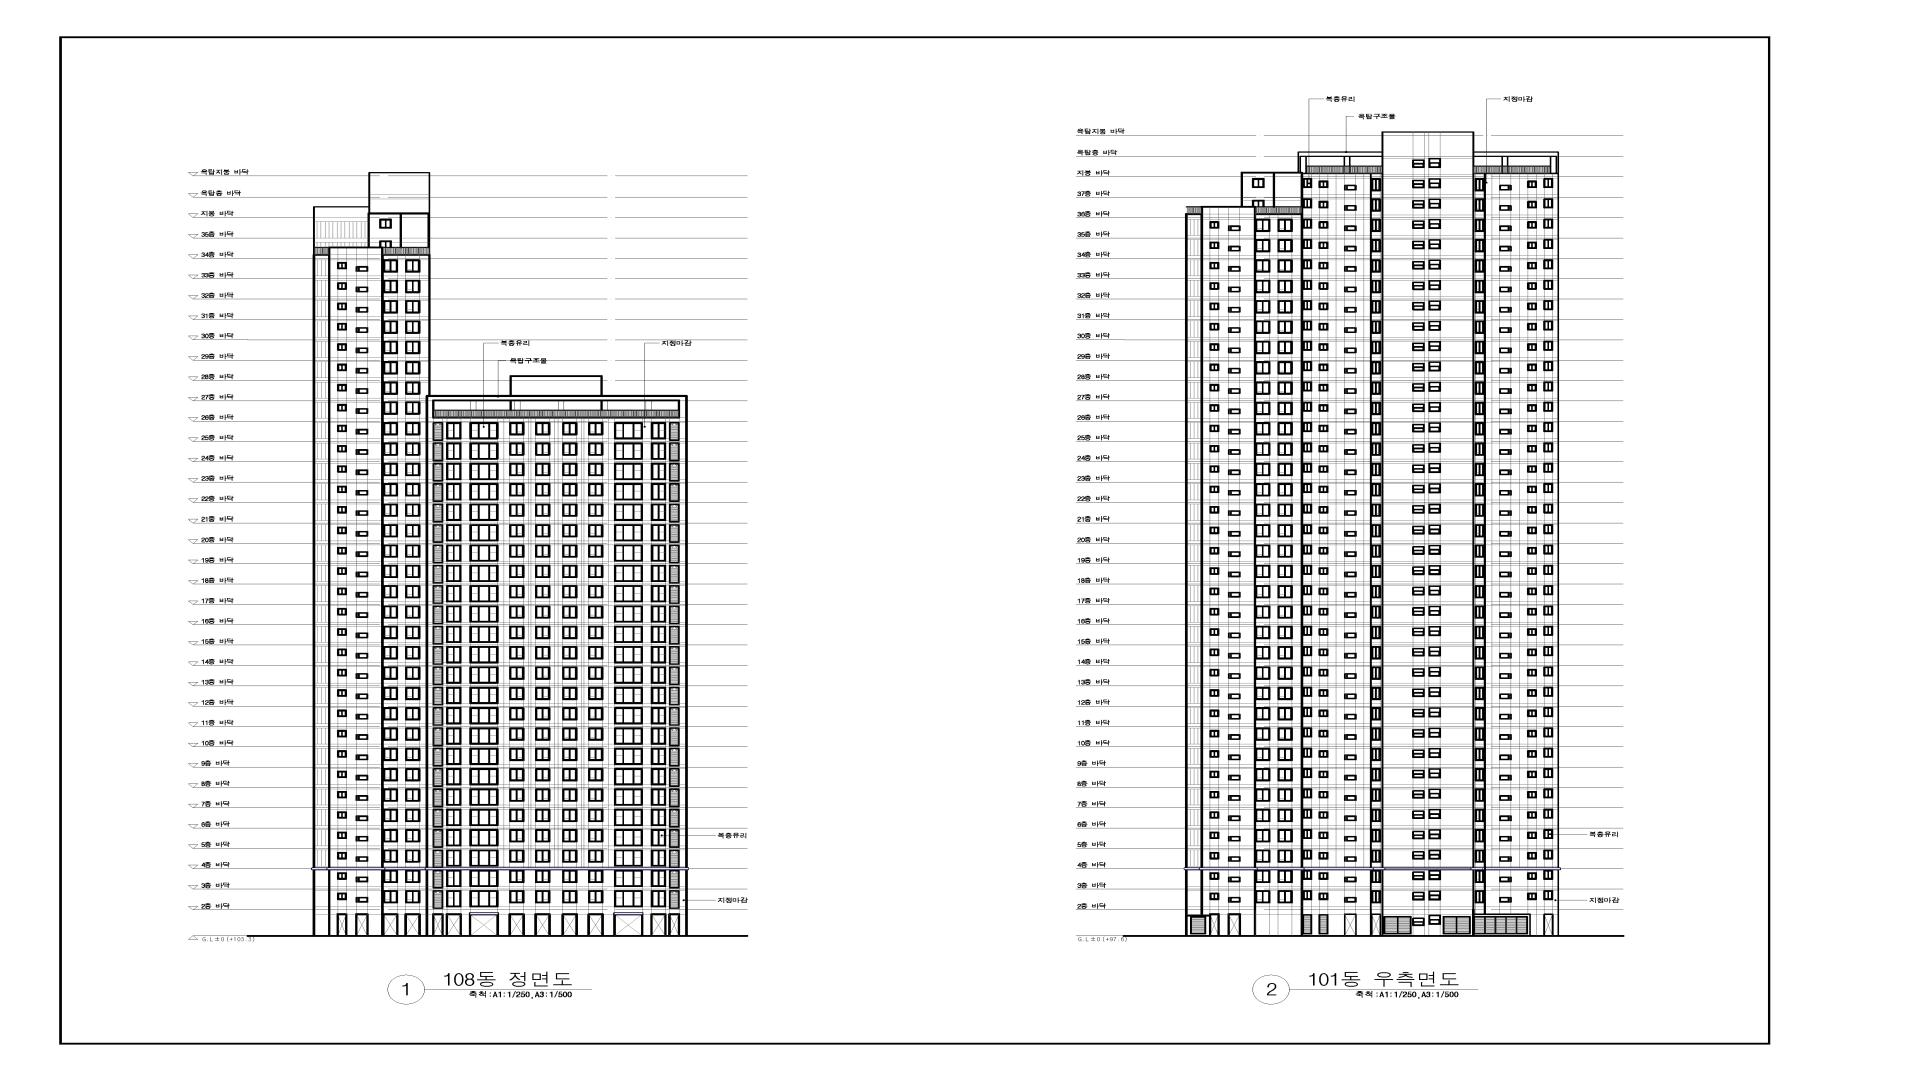door: (469, 913, 500, 935), (613, 913, 644, 935), (534, 913, 551, 935), (587, 913, 604, 935), (650, 913, 667, 935), (405, 913, 421, 935), (446, 913, 462, 935), (509, 913, 525, 935), (562, 913, 578, 935), (355, 913, 369, 935), (384, 913, 398, 935), (1228, 914, 1241, 935), (1344, 914, 1357, 935), (433, 913, 444, 935), (669, 913, 680, 935), (336, 913, 347, 935), (1209, 914, 1220, 935), (1370, 914, 1381, 935), (1543, 914, 1553, 935)
wall: (1185, 132, 1559, 938), (313, 171, 688, 936)
window: (1472, 916, 1528, 935), (613, 483, 644, 501), (613, 625, 644, 644), (613, 767, 644, 786), (615, 442, 644, 460), (615, 524, 644, 542), (615, 666, 644, 684), (615, 808, 644, 827), (469, 442, 498, 460), (469, 483, 498, 501), (469, 524, 498, 542), (469, 625, 498, 644), (469, 666, 498, 684), (469, 727, 498, 745), (469, 767, 498, 786), (1383, 916, 1412, 935), (613, 463, 644, 480), (613, 585, 644, 603), (613, 605, 644, 622), (1443, 916, 1470, 935), (615, 422, 644, 439), (615, 504, 644, 521), (615, 545, 644, 562), (615, 564, 644, 582), (615, 646, 644, 663), (615, 687, 644, 704), (615, 707, 644, 724), (615, 728, 644, 745), (615, 748, 644, 765), (615, 789, 644, 806), (615, 829, 644, 847), (615, 849, 644, 866), (615, 870, 644, 887), (615, 890, 644, 907), (469, 422, 498, 439), (469, 463, 498, 480), (469, 504, 498, 521), (469, 545, 498, 562), (469, 564, 498, 582), (469, 585, 498, 603), (469, 605, 498, 622), (469, 646, 498, 663), (469, 687, 498, 704), (469, 707, 498, 724), (469, 748, 498, 765), (469, 789, 498, 806), (469, 808, 498, 825), (469, 829, 498, 847), (469, 849, 498, 866), (469, 870, 498, 887), (469, 890, 498, 907), (1189, 916, 1207, 935), (446, 442, 462, 460), (446, 483, 462, 501), (446, 524, 462, 542), (446, 625, 462, 644), (446, 666, 462, 684), (446, 767, 462, 786), (446, 808, 462, 827), (446, 828, 462, 847), (650, 442, 666, 460), (650, 524, 666, 542), (650, 767, 666, 786), (446, 422, 462, 439), (446, 463, 462, 480), (446, 504, 462, 521), (446, 545, 462, 562), (446, 564, 462, 582), (446, 585, 462, 603), (446, 605, 462, 622), (446, 646, 462, 663), (446, 687, 462, 704), (446, 707, 462, 724), (446, 728, 462, 745), (446, 748, 462, 765), (446, 789, 462, 806), (446, 849, 462, 866), (446, 870, 462, 887), (446, 890, 462, 907), (650, 422, 666, 439), (650, 463, 666, 480), (650, 545, 666, 562), (650, 564, 666, 582), (650, 585, 666, 603), (650, 605, 666, 622), (650, 646, 666, 663), (650, 687, 666, 704), (650, 707, 666, 724), (650, 728, 666, 745), (650, 748, 666, 765), (650, 789, 666, 806), (650, 808, 666, 825), (650, 829, 666, 847), (650, 849, 666, 866), (650, 870, 666, 887), (650, 890, 666, 907), (651, 483, 666, 501), (651, 625, 666, 644), (651, 666, 666, 684), (1300, 914, 1312, 935), (651, 504, 666, 521), (1254, 340, 1271, 355), (1254, 442, 1271, 456), (1254, 564, 1271, 579), (1254, 666, 1271, 680), (1254, 707, 1271, 721), (1254, 767, 1271, 782), (1254, 808, 1271, 823), (669, 422, 680, 442), (669, 625, 680, 645), (669, 828, 680, 848), (405, 340, 421, 355), (405, 381, 421, 396), (405, 442, 421, 456), (405, 483, 421, 497), (405, 524, 421, 538), (405, 666, 421, 680), (405, 767, 421, 782), (405, 869, 421, 884), (509, 442, 525, 456), (509, 524, 525, 538), (509, 625, 525, 640), (509, 666, 525, 680), (509, 767, 525, 782), (535, 767, 551, 782), (562, 442, 578, 456), (562, 524, 578, 538), (562, 666, 578, 680), (562, 727, 578, 741), (562, 767, 578, 782), (588, 767, 604, 782), (588, 666, 604, 680), (588, 625, 604, 640), (588, 524, 604, 538), (588, 442, 604, 456), (1278, 666, 1294, 680), (1278, 767, 1294, 782), (1278, 808, 1294, 823), (1278, 869, 1294, 884), (1278, 340, 1294, 355), (1278, 442, 1294, 456), (1254, 239, 1271, 252), (1254, 260, 1271, 273), (1254, 280, 1271, 293), (1254, 301, 1271, 314), (1254, 320, 1271, 334), (1254, 361, 1271, 375), (1254, 381, 1271, 394), (1254, 402, 1271, 415), (1254, 422, 1271, 435), (1254, 463, 1271, 476), (1254, 483, 1271, 496), (1254, 504, 1271, 517), (1254, 525, 1271, 538), (1254, 545, 1271, 558), (1254, 585, 1271, 599), (1254, 605, 1271, 618), (1254, 626, 1271, 640), (1254, 646, 1271, 659), (1254, 687, 1271, 700), (1254, 829, 1271, 843), (1254, 849, 1271, 862), (1254, 870, 1271, 884), (1254, 219, 1271, 232), (1319, 914, 1329, 935), (669, 504, 680, 522), (669, 585, 680, 604), (669, 687, 680, 705), (669, 890, 680, 909), (384, 280, 398, 294), (384, 340, 398, 355), (384, 381, 398, 396), (384, 401, 398, 415), (384, 442, 398, 456), (384, 483, 398, 497), (384, 524, 398, 538), (384, 625, 398, 640), (384, 666, 398, 680), (384, 767, 398, 782), (384, 869, 398, 884), (535, 666, 550, 680), (535, 625, 550, 640), (535, 524, 550, 538), (535, 442, 550, 456), (405, 260, 421, 273), (405, 280, 421, 293), (405, 301, 421, 314), (405, 320, 421, 334), (405, 361, 421, 375), (405, 402, 421, 415), (405, 422, 421, 435), (405, 463, 421, 476), (405, 504, 421, 517), (405, 545, 421, 558), (405, 564, 421, 578), (405, 585, 421, 599), (405, 605, 421, 618), (405, 626, 421, 640), (405, 646, 421, 659), (405, 687, 421, 700), (405, 707, 421, 720), (405, 728, 421, 741), (405, 748, 421, 761), (405, 789, 421, 802), (405, 808, 421, 822), (405, 829, 421, 843), (405, 849, 421, 862), (405, 890, 421, 903), (433, 422, 443, 442), (433, 442, 443, 462), (433, 483, 443, 502), (433, 524, 443, 543), (433, 564, 443, 584), (433, 625, 443, 645), (433, 666, 443, 686), (433, 767, 443, 787), (433, 808, 443, 828), (433, 828, 443, 848), (509, 422, 525, 435), (509, 463, 525, 476), (509, 483, 525, 496), (509, 504, 525, 517), (509, 545, 525, 558), (509, 564, 525, 578), (509, 585, 525, 599), (509, 605, 525, 618), (509, 646, 525, 659), (509, 687, 525, 700), (509, 707, 525, 720), (509, 728, 525, 741), (509, 748, 525, 761), (509, 789, 525, 802), (509, 808, 525, 822), (509, 829, 525, 843), (509, 849, 525, 862), (509, 870, 525, 884), (509, 890, 525, 903), (535, 890, 551, 903), (535, 870, 551, 884), (535, 849, 551, 862), (535, 707, 551, 720), (535, 687, 551, 700), (535, 585, 551, 599), (535, 483, 551, 496), (562, 422, 578, 435), (562, 463, 578, 476), (562, 483, 578, 496), (562, 504, 578, 517), (562, 545, 578, 558), (562, 564, 578, 578), (562, 585, 578, 599), (562, 605, 578, 618), (562, 626, 578, 640), (562, 646, 578, 659), (562, 687, 578, 700), (562, 707, 578, 720), (562, 748, 578, 761), (562, 789, 578, 802), (562, 808, 578, 822), (562, 829, 578, 843), (562, 849, 578, 862), (562, 870, 578, 884), (562, 890, 578, 903), (588, 890, 604, 903), (588, 870, 604, 884), (588, 849, 604, 862), (588, 829, 604, 843), (588, 808, 604, 822), (588, 789, 604, 802), (588, 748, 604, 761), (588, 728, 604, 741), (588, 707, 604, 720), (588, 687, 604, 700), (588, 646, 604, 659), (588, 605, 604, 618), (588, 585, 604, 599), (588, 564, 604, 578), (588, 545, 604, 558), (588, 504, 604, 517), (588, 483, 604, 496), (588, 463, 604, 476), (588, 422, 604, 435), (669, 442, 679, 462), (669, 483, 679, 502), (669, 524, 679, 543), (669, 564, 679, 584), (669, 666, 679, 686), (669, 727, 679, 746), (669, 767, 679, 787), (669, 808, 679, 828), (1278, 564, 1294, 578), (1278, 585, 1294, 599), (1278, 605, 1294, 618), (1278, 626, 1294, 640), (1278, 646, 1294, 659), (1278, 687, 1294, 700), (1278, 707, 1294, 720), (1278, 728, 1294, 741), (1278, 748, 1294, 761), (1278, 789, 1294, 802), (1278, 829, 1294, 843), (1278, 849, 1294, 862), (1254, 728, 1270, 741), (1254, 748, 1270, 761), (1254, 789, 1270, 802), (1254, 890, 1270, 903), (1278, 219, 1294, 232), (1278, 239, 1294, 252), (1278, 280, 1294, 293), (1278, 301, 1294, 314), (1278, 320, 1294, 334), (1278, 361, 1294, 375), (1278, 381, 1294, 394), (1278, 402, 1294, 415), (1278, 463, 1294, 476), (1278, 483, 1294, 496), (1278, 504, 1294, 517), (1278, 525, 1294, 538), (1278, 545, 1294, 558), (433, 463, 443, 481), (433, 504, 443, 522), (433, 545, 443, 563), (433, 585, 443, 604), (433, 605, 443, 624), (433, 646, 443, 665), (433, 687, 443, 705), (433, 707, 443, 725), (433, 728, 443, 746), (433, 748, 443, 766), (433, 789, 443, 807), (433, 849, 443, 868), (433, 870, 443, 889), (433, 890, 443, 909), (669, 463, 679, 481), (669, 545, 679, 563), (669, 605, 679, 624), (669, 646, 679, 665), (669, 707, 679, 725), (669, 748, 679, 766), (669, 789, 679, 807), (669, 849, 679, 868), (669, 870, 679, 889), (384, 301, 398, 314), (384, 320, 398, 334), (384, 361, 398, 375), (384, 422, 398, 435), (384, 463, 398, 476), (384, 504, 398, 517), (384, 545, 398, 558), (384, 564, 398, 578), (384, 585, 398, 599), (384, 605, 398, 618), (384, 646, 398, 659), (384, 687, 398, 700), (384, 707, 398, 720), (384, 728, 398, 741), (384, 260, 398, 273), (384, 748, 398, 761), (384, 789, 398, 802), (384, 808, 398, 822), (384, 829, 398, 843), (384, 849, 398, 862), (384, 890, 398, 903), (535, 829, 550, 843), (535, 808, 550, 822), (535, 789, 550, 802), (535, 748, 550, 761), (535, 728, 550, 741), (535, 646, 550, 659), (535, 605, 550, 618), (535, 564, 550, 578), (535, 545, 550, 558), (535, 504, 550, 517), (535, 463, 550, 476), (535, 422, 550, 435), (1278, 890, 1292, 903), (1278, 260, 1292, 273), (1278, 422, 1292, 435), (1474, 198, 1486, 212), (1474, 280, 1486, 294), (1474, 340, 1486, 355), (1474, 442, 1486, 456), (1474, 767, 1486, 782), (1370, 340, 1382, 355), (1370, 707, 1382, 720), (1474, 178, 1486, 191), (1474, 219, 1486, 232), (1474, 239, 1486, 252), (1474, 260, 1486, 273), (1474, 301, 1486, 314), (1474, 320, 1486, 334), (1474, 361, 1486, 375), (1474, 381, 1486, 394), (1474, 402, 1486, 415), (1474, 422, 1486, 435), (1474, 463, 1486, 476), (1474, 483, 1486, 496), (1474, 504, 1486, 517), (1474, 525, 1486, 538), (1474, 545, 1486, 558), (1474, 564, 1486, 578), (1474, 585, 1486, 599), (1474, 605, 1486, 618), (1370, 422, 1382, 435), (1370, 605, 1382, 618), (1370, 646, 1382, 659), (1474, 626, 1486, 640), (1474, 646, 1486, 659), (1474, 667, 1486, 680), (1474, 687, 1486, 700), (1474, 707, 1486, 720), (1474, 728, 1486, 741), (1474, 748, 1486, 761), (1474, 789, 1486, 802), (1474, 808, 1486, 822), (1474, 829, 1486, 843), (1474, 849, 1486, 862), (1474, 870, 1486, 884), (1370, 219, 1382, 232), (1370, 239, 1382, 252), (1370, 381, 1382, 394), (1370, 767, 1381, 782), (1370, 666, 1381, 680), (1370, 198, 1381, 212), (1370, 687, 1381, 700), (1370, 728, 1381, 741), (1370, 748, 1381, 761), (1370, 789, 1381, 802), (1370, 808, 1381, 822), (1370, 829, 1381, 843), (1370, 849, 1381, 862), (1370, 870, 1381, 884), (1370, 890, 1381, 903), (1428, 504, 1441, 514), (1428, 545, 1441, 555), (1428, 585, 1441, 596), (1428, 626, 1441, 637), (1428, 646, 1441, 657), (1428, 687, 1441, 698), (1428, 707, 1441, 717), (1428, 728, 1441, 738), (1428, 748, 1441, 758), (1428, 789, 1441, 799), (1428, 808, 1441, 819), (1428, 829, 1441, 840), (1428, 849, 1441, 860), (1428, 870, 1441, 881), (1428, 890, 1441, 901), (1251, 178, 1265, 189), (1370, 443, 1381, 456), (1370, 463, 1381, 476), (1370, 483, 1381, 496), (1370, 504, 1381, 517), (1370, 525, 1381, 538), (1370, 545, 1381, 558), (1370, 564, 1381, 578), (1370, 585, 1381, 599), (1370, 626, 1381, 640), (1428, 178, 1441, 189), (1428, 219, 1441, 229), (1428, 239, 1441, 249), (1428, 260, 1441, 270), (1428, 280, 1441, 290), (1428, 301, 1441, 311), (1428, 320, 1441, 331), (1428, 361, 1441, 372), (1428, 402, 1441, 413), (1428, 422, 1441, 433), (1428, 463, 1441, 473), (1476, 890, 1486, 903), (1370, 178, 1381, 191), (1370, 260, 1381, 273), (1370, 280, 1381, 293), (1370, 301, 1381, 314), (1370, 320, 1381, 334), (1370, 361, 1381, 375), (1370, 402, 1381, 415), (1300, 545, 1312, 555), (1300, 564, 1312, 575), (1300, 605, 1312, 616), (1300, 646, 1312, 657), (1300, 666, 1312, 676), (1300, 707, 1312, 717), (1300, 748, 1312, 758), (1300, 789, 1312, 799), (1300, 808, 1312, 819), (1300, 849, 1312, 860), (1300, 890, 1312, 901), (1300, 178, 1312, 189), (1300, 198, 1312, 208), (1300, 239, 1312, 249), (1300, 280, 1312, 290), (1300, 320, 1312, 331), (1300, 340, 1312, 351), (1300, 381, 1312, 392), (1300, 422, 1312, 433), (1300, 442, 1312, 452), (1300, 463, 1312, 473), (1300, 483, 1312, 493), (1300, 504, 1312, 514), (378, 219, 392, 228), (1428, 525, 1441, 534), (1428, 566, 1441, 575), (1428, 607, 1441, 616), (1428, 667, 1441, 676), (1428, 769, 1441, 778), (1428, 915, 1441, 924), (1412, 587, 1425, 596), (1412, 607, 1425, 616), (1412, 628, 1425, 637), (1412, 647, 1425, 657), (1412, 688, 1425, 698), (1412, 749, 1425, 758), (1412, 790, 1425, 799), (1412, 891, 1425, 901), (1428, 158, 1441, 167), (1428, 199, 1441, 208), (1428, 342, 1441, 351), (1428, 382, 1441, 392), (1428, 443, 1441, 452), (1428, 484, 1441, 493), (1412, 179, 1425, 189), (1412, 220, 1425, 229), (1412, 261, 1425, 270), (1412, 302, 1425, 311), (1412, 322, 1425, 331), (1412, 363, 1425, 372), (1412, 423, 1425, 433), (1412, 464, 1425, 473), (1412, 505, 1425, 514), (1412, 546, 1425, 555), (1543, 442, 1553, 452), (1543, 463, 1553, 473), (1543, 483, 1553, 493), (1543, 504, 1553, 514), (1543, 524, 1553, 534), (1543, 545, 1553, 555), (1543, 564, 1553, 575), (1543, 605, 1553, 616), (1543, 646, 1553, 657), (1543, 666, 1553, 676), (1543, 687, 1553, 698), (1543, 707, 1553, 717), (1543, 748, 1553, 758), (1543, 767, 1553, 778), (1543, 789, 1553, 799), (1543, 808, 1553, 819), (1543, 849, 1553, 860), (1543, 890, 1553, 901), (1543, 178, 1553, 189), (1543, 198, 1553, 208), (1543, 239, 1553, 249), (1543, 280, 1553, 290), (1543, 320, 1553, 331), (1543, 340, 1553, 351), (1543, 361, 1553, 372), (1543, 381, 1553, 392), (1543, 422, 1553, 433), (1300, 585, 1312, 595), (1300, 626, 1312, 636), (1300, 687, 1312, 696), (1300, 728, 1312, 737), (1300, 769, 1312, 778), (1300, 829, 1312, 839), (1300, 870, 1312, 880), (1300, 219, 1312, 228), (1300, 260, 1312, 269), (1300, 301, 1312, 310), (1300, 361, 1312, 371), (1300, 402, 1312, 411), (1300, 525, 1312, 534), (1412, 918, 1425, 926), (1251, 199, 1265, 207), (1412, 567, 1425, 575), (1412, 669, 1425, 676), (1412, 709, 1425, 717), (1412, 729, 1425, 737), (1412, 770, 1425, 778), (1412, 811, 1425, 819), (1412, 831, 1425, 839), (1412, 852, 1425, 860), (1412, 872, 1425, 880), (1412, 160, 1425, 167), (1412, 200, 1425, 208), (1412, 241, 1425, 249), (1412, 282, 1425, 290), (1412, 343, 1425, 351), (1412, 384, 1425, 392), (1412, 404, 1425, 411), (1412, 444, 1425, 452), (1412, 485, 1425, 493), (1412, 526, 1425, 534), (1543, 585, 1553, 595), (1543, 626, 1553, 636), (1543, 728, 1553, 737), (1543, 829, 1553, 839), (1543, 870, 1553, 880), (1543, 219, 1553, 228), (1543, 260, 1553, 269), (1543, 301, 1553, 310), (1543, 402, 1553, 411), (355, 774, 368, 781), (1344, 185, 1357, 191), (1344, 204, 1357, 211), (1344, 245, 1357, 252), (1344, 286, 1357, 293), (1344, 327, 1357, 334), (1344, 388, 1357, 394), (1344, 429, 1357, 435), (1228, 245, 1241, 252), (1228, 286, 1241, 293), (1228, 327, 1241, 334), (1228, 388, 1241, 394), (1228, 429, 1241, 435), (1228, 551, 1241, 558), (1228, 571, 1241, 578), (1344, 612, 1357, 618), (1344, 673, 1357, 679), (1344, 713, 1357, 720), (1344, 815, 1357, 822), (1344, 856, 1357, 862), (1344, 897, 1357, 903), (1499, 185, 1513, 191), (1499, 245, 1513, 252), (1499, 286, 1513, 293), (1499, 327, 1513, 334), (1499, 388, 1513, 394), (1499, 429, 1513, 435), (1228, 612, 1241, 618), (1228, 653, 1241, 659), (1228, 673, 1241, 679), (1228, 713, 1241, 720), (1228, 754, 1241, 761), (1228, 815, 1241, 822), (1228, 856, 1241, 862), (1499, 551, 1513, 558), (1499, 713, 1513, 720), (1499, 754, 1513, 761), (1499, 774, 1513, 781), (1499, 815, 1513, 822), (1499, 856, 1513, 862), (1499, 897, 1513, 903), (336, 282, 347, 290), (336, 343, 347, 351), (336, 404, 347, 411), (336, 425, 347, 433), (336, 444, 347, 452), (336, 465, 347, 473), (336, 485, 347, 493), (336, 506, 347, 514), (336, 526, 347, 534), (336, 649, 347, 657), (336, 669, 347, 676), (336, 750, 347, 758), (336, 811, 347, 819), (336, 872, 347, 880), (1527, 181, 1538, 189), (1527, 200, 1538, 208), (1527, 222, 1538, 229), (1527, 241, 1538, 249), (1527, 282, 1538, 290), (1527, 302, 1538, 310), (1527, 323, 1538, 331), (1527, 343, 1538, 351), (1527, 384, 1538, 392), (1527, 404, 1538, 411), (1527, 425, 1538, 433), (1209, 241, 1220, 249), (1209, 282, 1220, 290), (1209, 302, 1220, 310), (1209, 323, 1220, 331), (1209, 343, 1220, 351), (1209, 364, 1220, 372), (1209, 384, 1220, 392), (1209, 404, 1220, 411), (1209, 425, 1220, 433), (1209, 465, 1220, 473), (1209, 485, 1220, 493), (1209, 526, 1220, 534), (1209, 547, 1220, 555), (1209, 567, 1220, 575), (1209, 608, 1220, 616), (1209, 649, 1220, 657), (1209, 669, 1220, 676), (1209, 709, 1220, 717), (1209, 729, 1220, 737), (1209, 750, 1220, 758), (1209, 811, 1220, 819), (1209, 852, 1220, 860), (1209, 893, 1220, 901), (1319, 181, 1329, 189), (1319, 200, 1329, 208), (1319, 222, 1329, 229), (1319, 241, 1329, 249), (1319, 282, 1329, 290), (1319, 323, 1329, 331), (1319, 343, 1329, 351), (1319, 364, 1329, 372), (1319, 384, 1329, 392), (1319, 404, 1329, 411), (1319, 425, 1329, 433), (1319, 485, 1329, 493), (1319, 506, 1329, 514), (1319, 526, 1329, 534), (1319, 547, 1329, 555), (1527, 465, 1538, 473), (1527, 485, 1538, 493), (1527, 506, 1538, 514), (1527, 526, 1538, 534), (1527, 547, 1538, 555), (1527, 567, 1538, 575), (1527, 608, 1538, 616), (1527, 628, 1538, 636), (1527, 649, 1538, 657), (1527, 669, 1538, 676), (1527, 690, 1538, 698), (1527, 709, 1538, 717), (1527, 750, 1538, 758), (1527, 791, 1538, 799), (1527, 811, 1538, 819), (1527, 852, 1538, 860), (1527, 893, 1538, 901), (1319, 567, 1329, 575), (1319, 608, 1329, 616), (1319, 628, 1329, 636), (1319, 649, 1329, 657), (1319, 669, 1329, 676), (1319, 709, 1329, 717), (1319, 729, 1329, 737), (1319, 750, 1329, 758), (1319, 791, 1329, 799), (1319, 811, 1329, 819), (1319, 852, 1329, 860), (1319, 893, 1329, 901), (356, 286, 368, 293), (356, 327, 368, 334), (356, 347, 368, 353), (356, 388, 368, 394), (356, 407, 368, 414), (356, 429, 368, 435), (356, 448, 368, 455), (356, 551, 368, 558), (356, 571, 368, 578), (356, 612, 368, 618), (356, 653, 368, 659), (356, 673, 368, 679), (356, 713, 368, 720), (356, 754, 368, 761), (356, 815, 368, 822), (356, 856, 368, 862), (356, 897, 368, 903), (380, 240, 392, 247), (1499, 612, 1511, 618), (1499, 653, 1511, 659), (338, 323, 347, 331), (338, 384, 347, 392), (338, 567, 347, 575), (338, 608, 347, 616), (338, 628, 347, 636), (338, 709, 347, 717), (338, 770, 347, 778), (338, 791, 347, 799), (338, 852, 347, 860), (338, 893, 347, 901), (1319, 465, 1328, 473), (336, 262, 347, 269), (336, 364, 347, 371), (336, 832, 347, 839), (1527, 262, 1538, 269), (1527, 364, 1538, 371), (1527, 446, 1538, 452), (1209, 222, 1220, 228), (1209, 262, 1220, 269), (1209, 446, 1220, 452), (1209, 506, 1220, 513), (1344, 225, 1357, 231), (1344, 266, 1357, 272), (1344, 307, 1357, 313), (1344, 348, 1357, 353), (1344, 368, 1357, 373), (1344, 409, 1357, 414), (1344, 450, 1357, 455), (1344, 469, 1357, 475), (1344, 491, 1357, 496), (1209, 588, 1220, 595), (1209, 629, 1220, 636), (1209, 690, 1220, 696), (1209, 771, 1220, 778), (1209, 791, 1220, 798), (1209, 832, 1220, 839), (1209, 873, 1220, 880), (1228, 225, 1241, 231), (1228, 266, 1241, 272), (1228, 307, 1241, 313), (1228, 348, 1241, 353), (1228, 368, 1241, 373), (1228, 409, 1241, 414), (1228, 450, 1241, 455), (1228, 469, 1241, 475), (1228, 491, 1241, 496), (1228, 510, 1241, 516), (1228, 531, 1241, 537), (1319, 262, 1329, 269), (1319, 303, 1329, 310), (1319, 446, 1329, 452), (1344, 510, 1357, 516), (1344, 531, 1357, 537), (1344, 551, 1357, 556), (1344, 572, 1357, 578), (1344, 592, 1357, 597), (1344, 633, 1357, 638), (1344, 653, 1357, 658), (1344, 694, 1357, 699), (1344, 735, 1357, 740), (1344, 754, 1357, 760), (1344, 775, 1357, 781), (1344, 795, 1357, 800), (1344, 836, 1357, 841), (1344, 877, 1357, 882), (1499, 206, 1513, 211), (1499, 225, 1513, 231), (1499, 266, 1513, 272), (1499, 307, 1513, 313), (1499, 348, 1513, 353), (1499, 368, 1513, 373), (1499, 409, 1513, 414), (1499, 450, 1513, 455), (1527, 588, 1538, 595), (1527, 731, 1538, 737), (1527, 771, 1538, 778), (1527, 832, 1538, 839), (1527, 873, 1538, 880), (1228, 592, 1241, 597), (1228, 633, 1241, 638), (1228, 694, 1241, 699), (1228, 735, 1241, 740), (1228, 775, 1241, 781), (1228, 795, 1241, 800), (1228, 836, 1241, 841), (1228, 877, 1241, 882), (1228, 897, 1241, 902), (1319, 588, 1329, 595), (1319, 690, 1329, 696), (1319, 771, 1329, 778), (1319, 832, 1329, 839), (1319, 873, 1329, 880), (1499, 469, 1513, 475), (1499, 491, 1513, 496), (1499, 510, 1513, 516), (1499, 531, 1513, 537), (1499, 572, 1513, 578), (1499, 633, 1513, 638), (1499, 674, 1513, 679), (1499, 694, 1513, 699), (1499, 735, 1513, 740), (1499, 795, 1513, 800), (1499, 836, 1513, 841), (1499, 877, 1513, 882), (356, 266, 368, 272), (356, 307, 368, 313), (356, 368, 368, 373), (356, 469, 368, 475), (356, 491, 368, 496), (356, 510, 368, 516), (356, 531, 368, 537), (356, 592, 368, 597), (356, 633, 368, 638), (356, 694, 368, 699), (356, 735, 368, 740), (356, 795, 368, 800), (356, 836, 368, 841), (356, 877, 368, 882), (1499, 592, 1511, 597), (338, 303, 347, 310), (338, 547, 347, 554), (338, 588, 347, 595), (338, 690, 347, 696), (338, 731, 347, 737)
